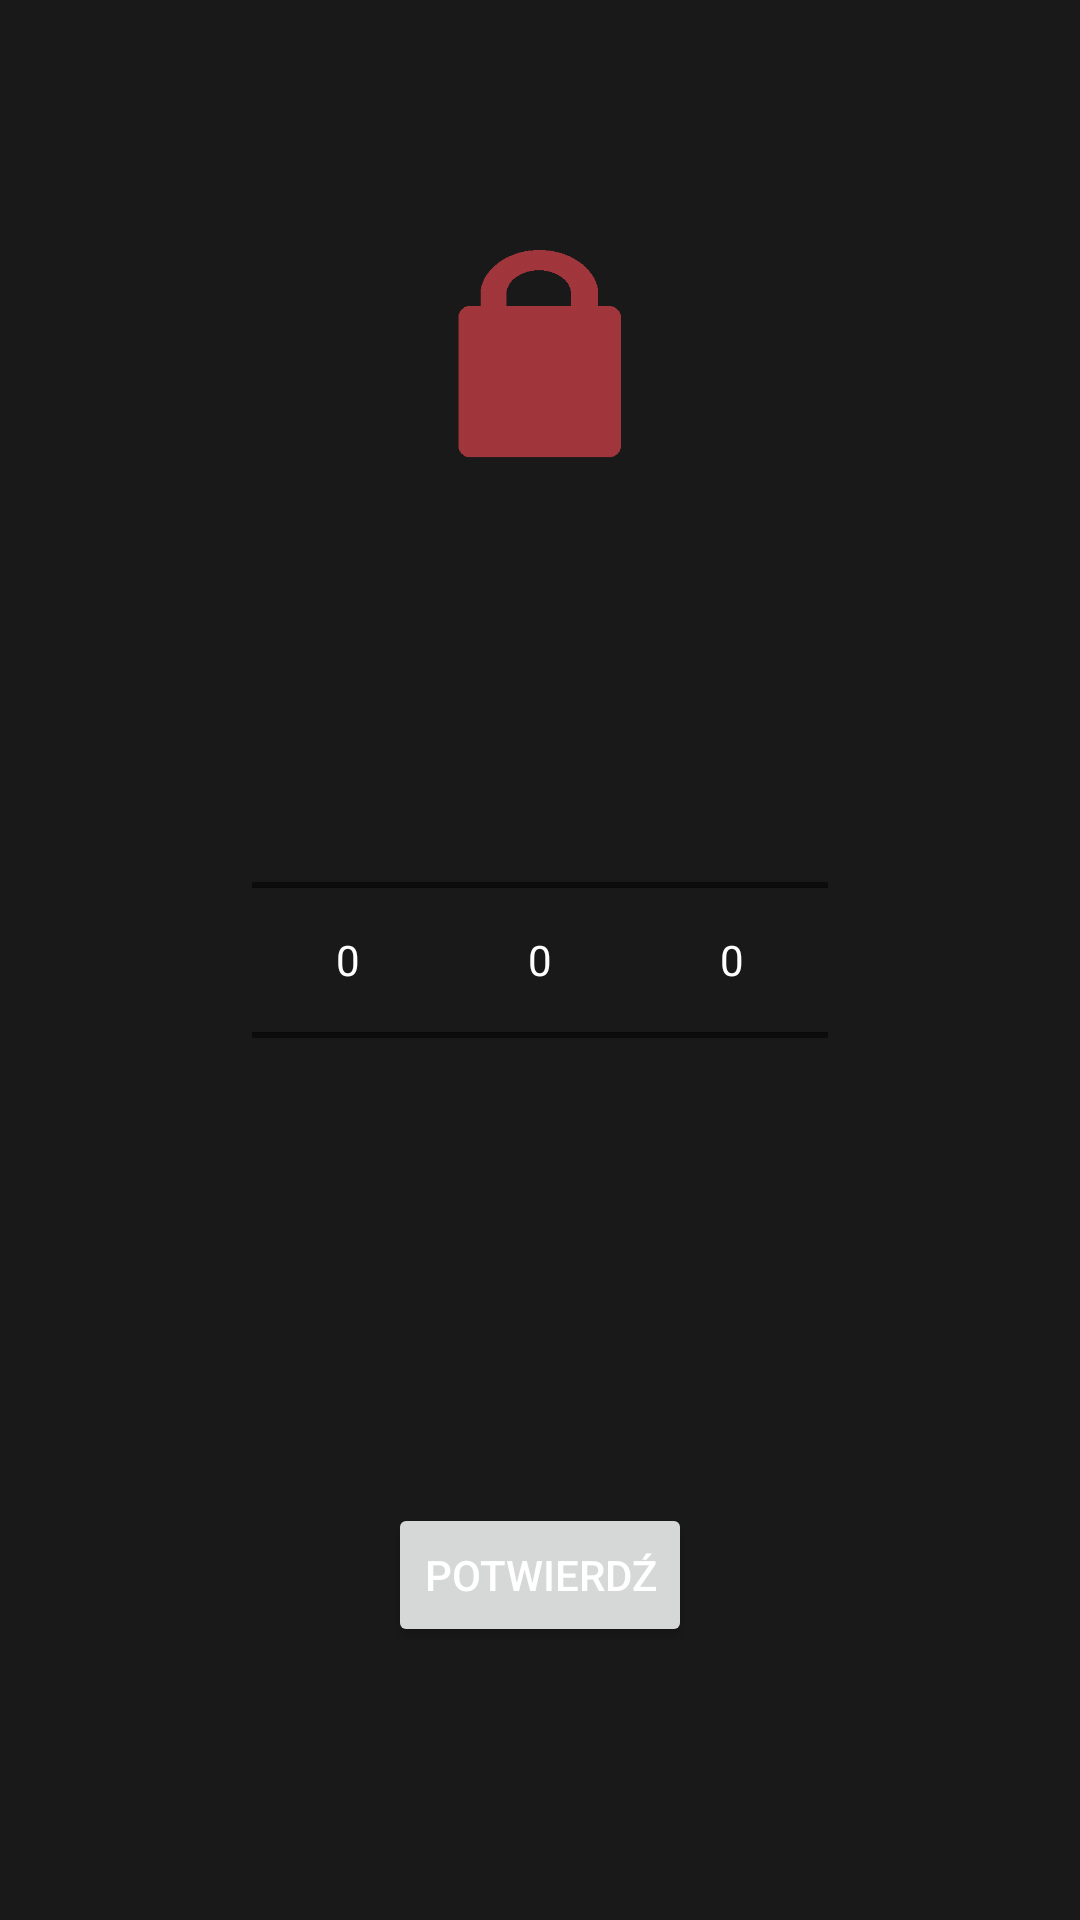

Screen size 1080px x 1920px. Icon name, then its box in pixels as (x1,y1,x2,y2):
redlocker: (458,250,621,457)
